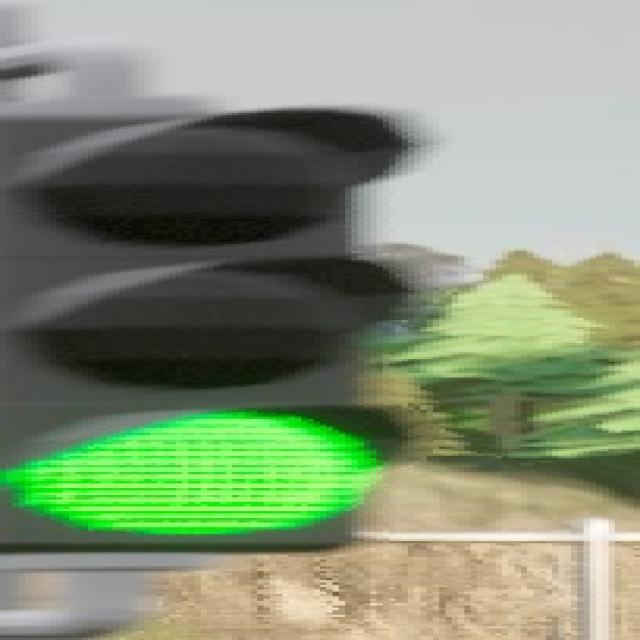green_light: (0, 100, 400, 562)
